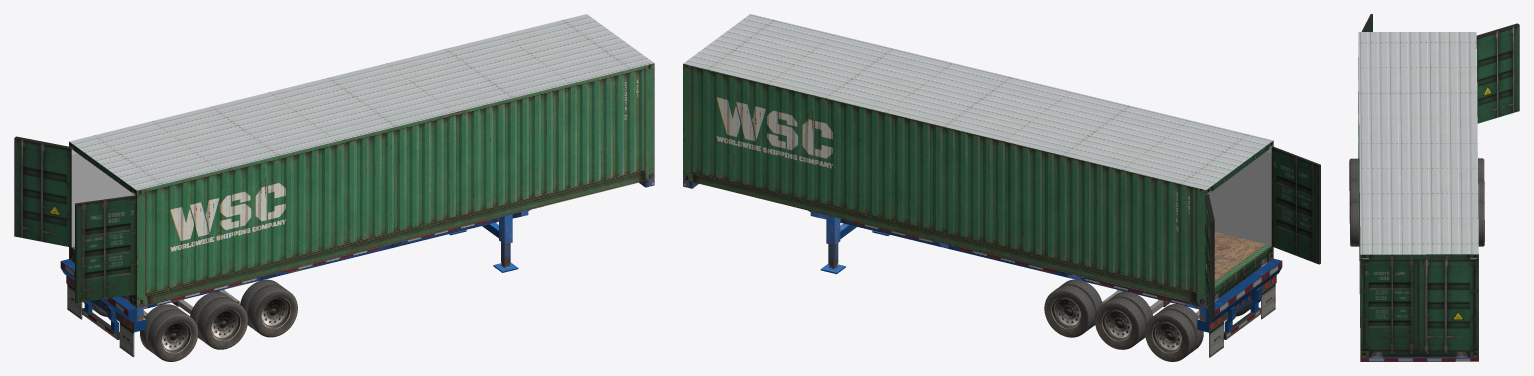
3 views of the same model, side by side, from view 1: azimuth 30°, elevation 25°; view 2: azimuth 150°, elevation 25°; view 3: azimuth 270°, elevation 25° (orthographic). The views are drawn at different scales.
Parts seen in each view (by area): view 1: semi_trailer; view 2: semi_trailer; view 3: semi_trailer.
Boxes of the visible parts, x1,y1,x2,y2 form: semi_trailer: [14, 14, 654, 361]; semi_trailer: [683, 14, 1320, 361]; semi_trailer: [1349, 14, 1519, 361].
Size of the model in its own units: 1577 by 463 by 461.
